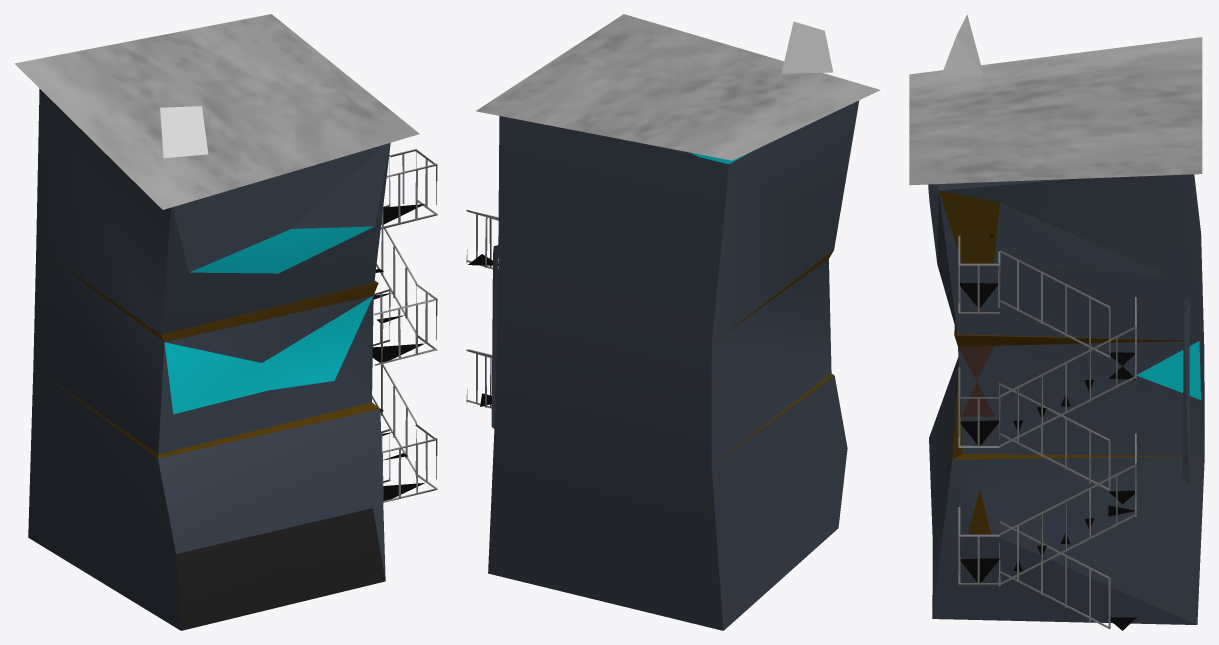
Rendered from PredioTorto-CinzaEscuroLOD2.fbx.
3 renders of one model, left to right at view 1: azimuth 30°, elevation 25°; view 2: azimuth 150°, elevation 25°; view 3: azimuth 270°, elevation 25°, orthographic.
Visible parts, largest first — view 1: Predio3AndaresLOD2; view 2: Predio3AndaresLOD2; view 3: Predio3AndaresLOD2.
Part boxes in pixels (x1,y1,x2,y2): Predio3AndaresLOD2: [14, 14, 437, 630]; Predio3AndaresLOD2: [466, 14, 880, 630]; Predio3AndaresLOD2: [909, 14, 1204, 630].
Bounding box in the file's own units: 1025 × 1669 × 885.
